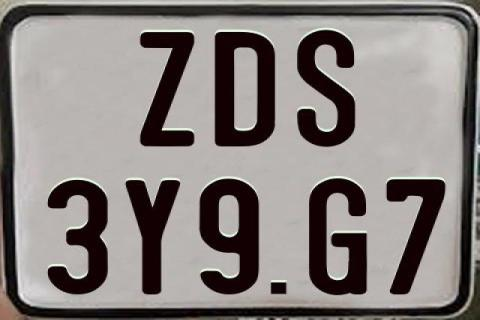0: (44, 178, 108, 298), (386, 177, 446, 297), (200, 177, 260, 295)
D: (214, 31, 275, 149)
G: (307, 176, 366, 296)
S: (297, 29, 355, 150)
Y: (122, 180, 180, 294)
Z: (138, 29, 198, 145)
